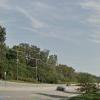Tree: (11, 25, 57, 80)
